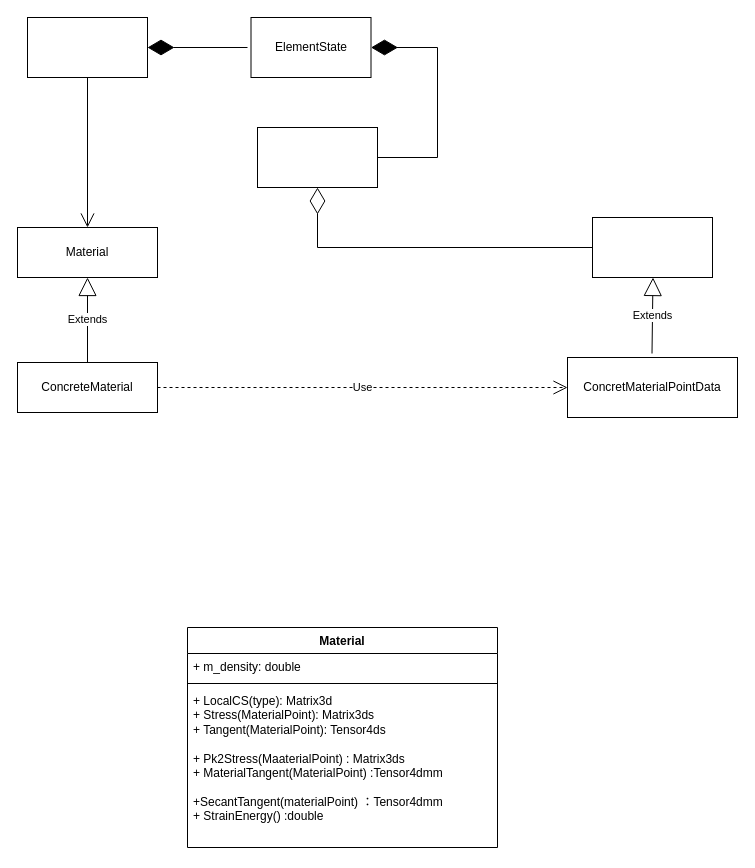
This 755x868 diagram has some shape labels left out. The centre of each missing label's shape, as x and y in pixels:
"Element" goes at pixel 87 47.
"MaterialPoint" goes at pixel 317 157.
"MaterialPointData" goes at pixel 652 247.
